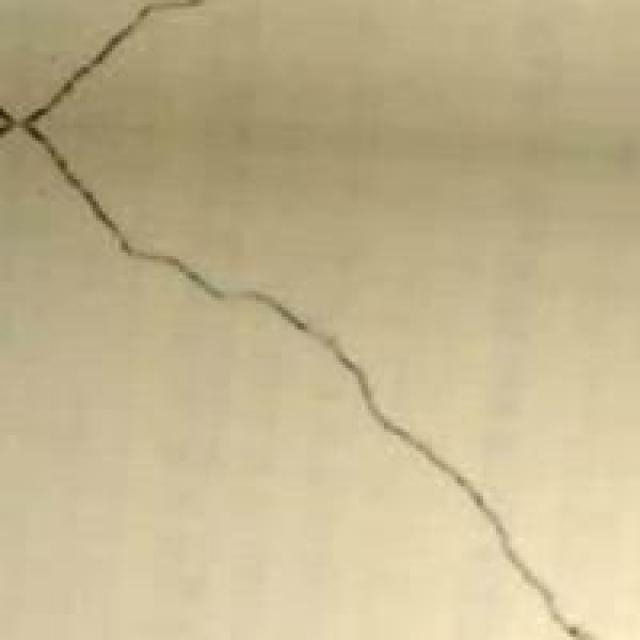crack: (40, 132, 602, 640), (0, 0, 228, 142)
